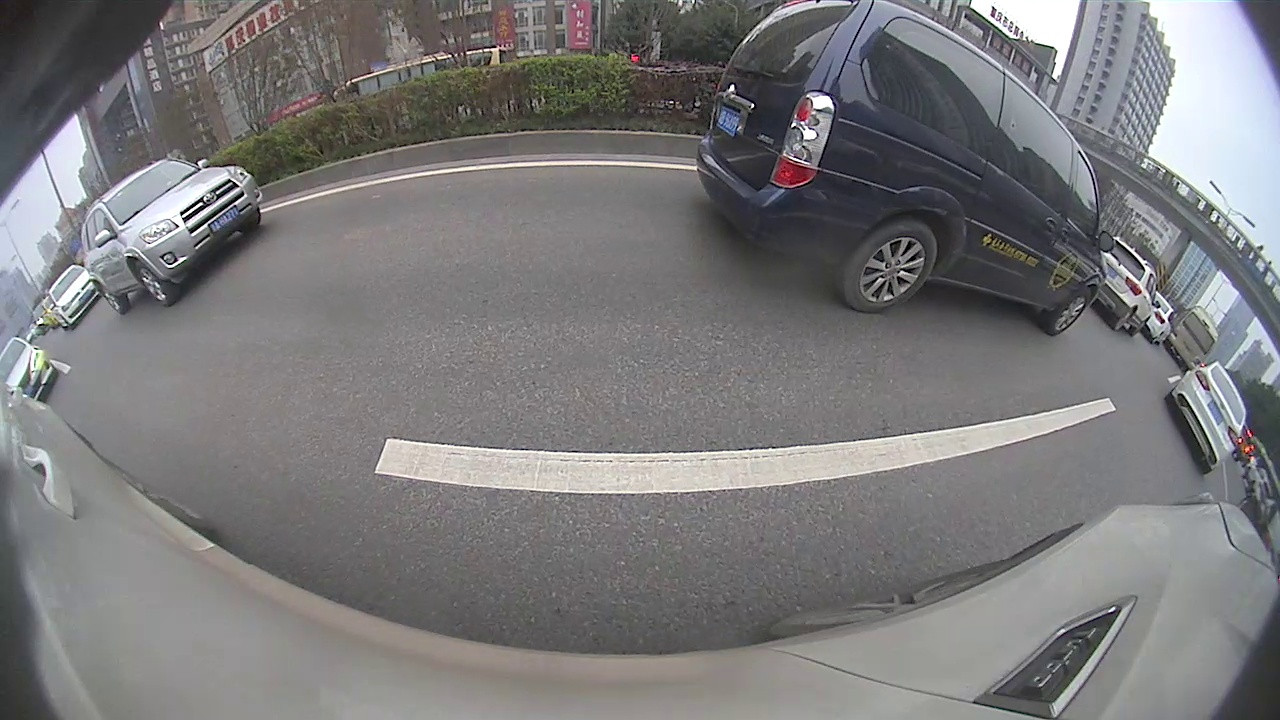car: (696, 2, 1116, 337), (78, 154, 266, 313), (1163, 361, 1249, 478)
front: (1045, 290, 1094, 336), (136, 260, 172, 308)
rear: (842, 220, 939, 314)
